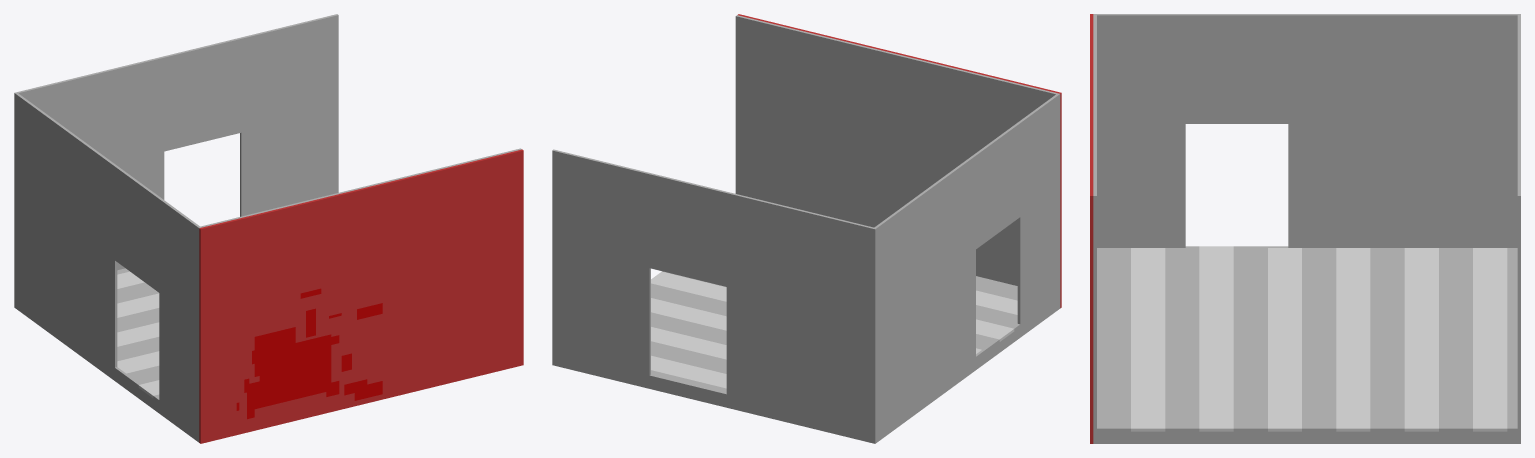
Rendered from 4x2 first (1)-5.obj.
3 renders of one model, left to right at view 1: azimuth 30°, elevation 25°; view 2: azimuth 150°, elevation 25°; view 3: azimuth 270°, elevation 25°, orthographic. The views are drawn at different scales.
Parts seen in each view (by area): view 1: 4x2 first (1)-5; view 2: 4x2 first (1)-5; view 3: 4x2 first (1)-5.
Part boxes in pixels (bbox=[...]): 4x2 first (1)-5: bbox=[14, 14, 523, 443]; 4x2 first (1)-5: bbox=[552, 14, 1061, 443]; 4x2 first (1)-5: bbox=[1090, 14, 1520, 443].
Size of the model in its own units: 126 by 80 by 126.
Materials: 1 (1 with a texture image).
